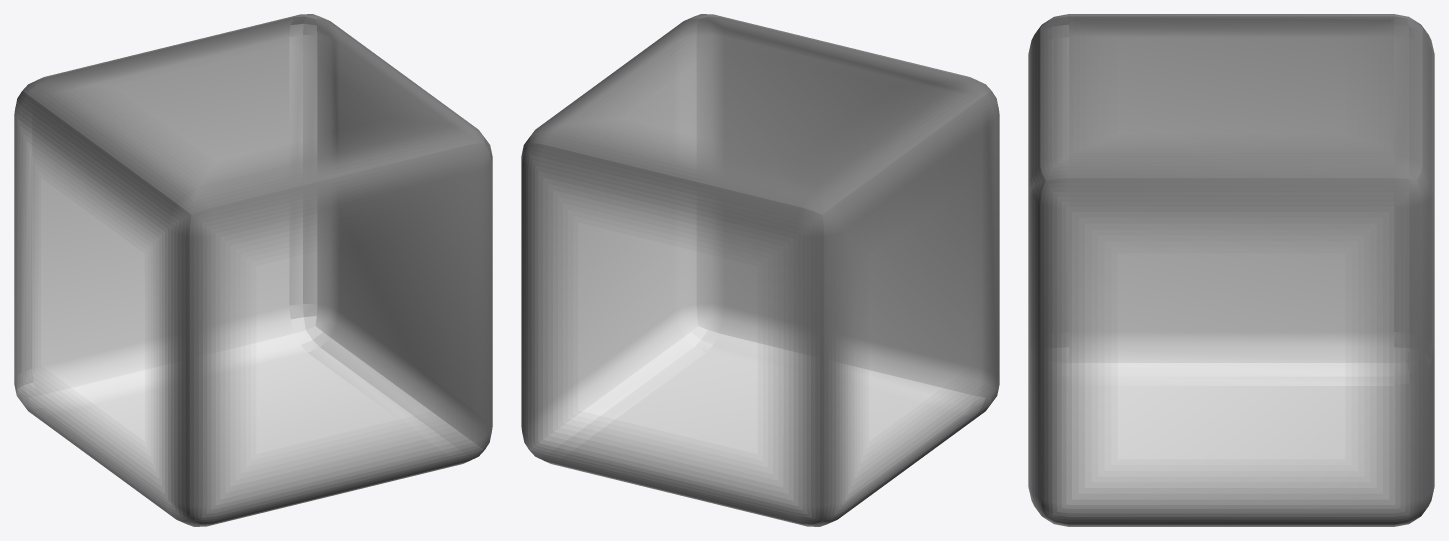
Rendered from itembox.glb.
The picture shows the model from 3 angles, left to right: view 1: azimuth 30°, elevation 25°; view 2: azimuth 150°, elevation 25°; view 3: azimuth 270°, elevation 25°; orthographic projection. The views are drawn at different scales.
Parts seen in each view (by area): view 1: ItemBox_1__M_ItemBox, ItemBoxRef__M_ItemBoxRef; view 2: ItemBox_1__M_ItemBox, ItemBoxRef__M_ItemBoxRef; view 3: ItemBox_1__M_ItemBox, ItemBoxRef__M_ItemBoxRef.
Boxes of the visible parts, left/top/right/bottom form: ItemBox_1__M_ItemBox: left=14, top=14, right=491, bottom=526; ItemBoxRef__M_ItemBoxRef: left=14, top=14, right=492, bottom=526; ItemBox_1__M_ItemBox: left=522, top=14, right=999, bottom=526; ItemBoxRef__M_ItemBoxRef: left=521, top=14, right=999, bottom=526; ItemBox_1__M_ItemBox: left=1028, top=14, right=1434, bottom=526; ItemBoxRef__M_ItemBoxRef: left=1028, top=14, right=1434, bottom=526.
Size of the model in its own units: 20 by 20 by 20.
2 materials, 1 textured.
